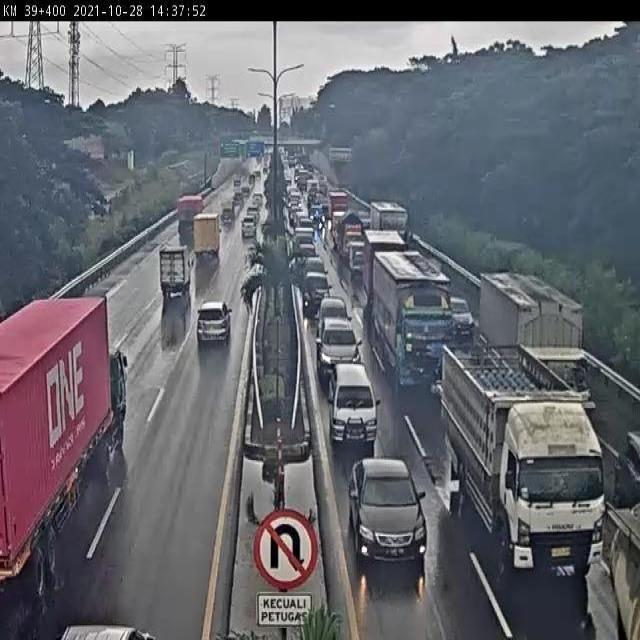ARABA: (156, 242, 189, 294)
KAMYONET: (193, 209, 222, 259)
TIR: (444, 334, 605, 574), (480, 273, 592, 423), (372, 249, 455, 387), (175, 192, 204, 232)
